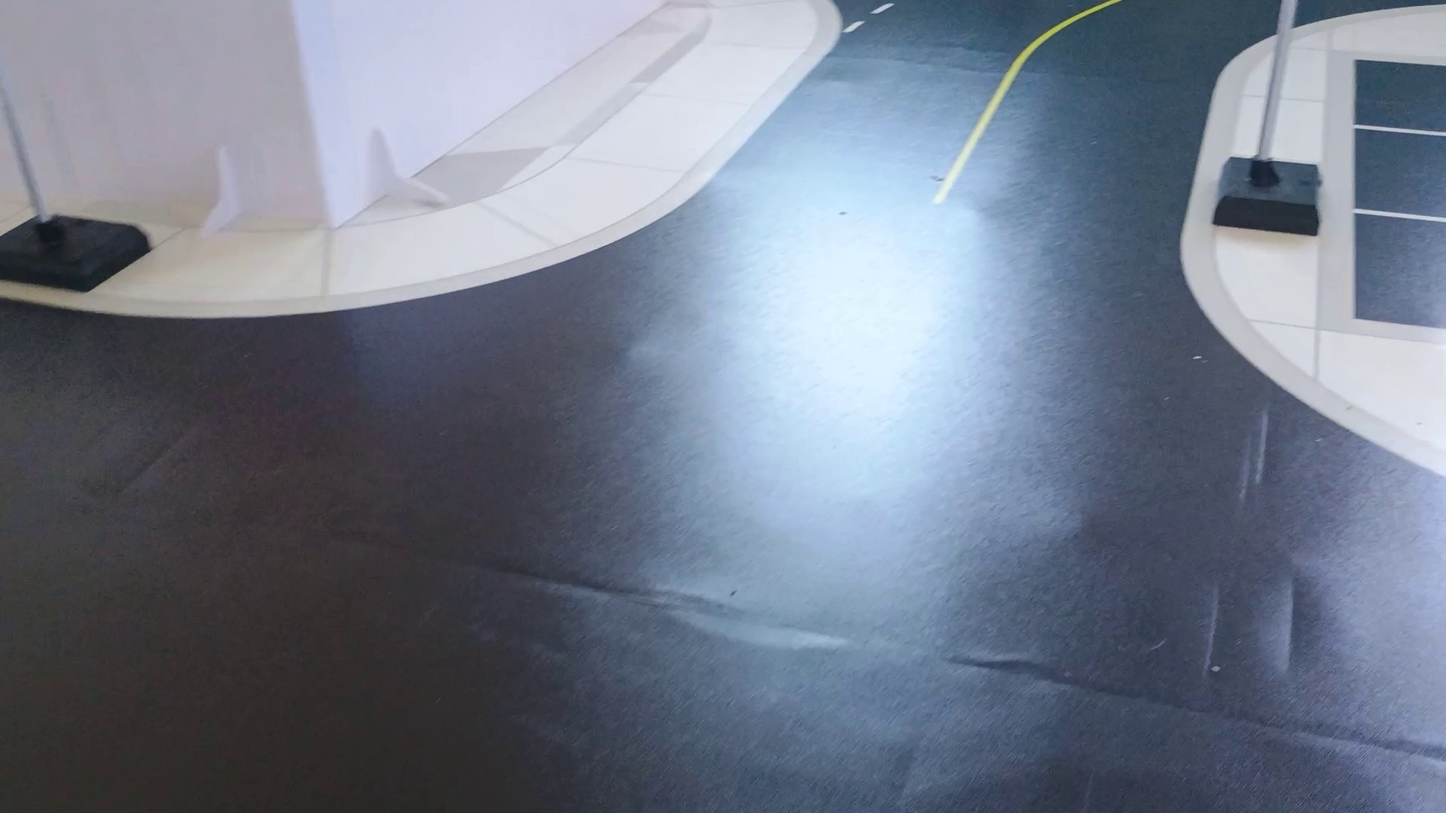Dashed: (871, 3, 894, 13), (844, 21, 864, 32)
Parking: (1355, 211, 1445, 326), (1353, 126, 1445, 219), (1355, 59, 1445, 135)
Solid: (932, 0, 1123, 203)
Street: (0, 0, 1445, 812), (1353, 60, 1445, 329), (1298, 0, 1432, 22)
